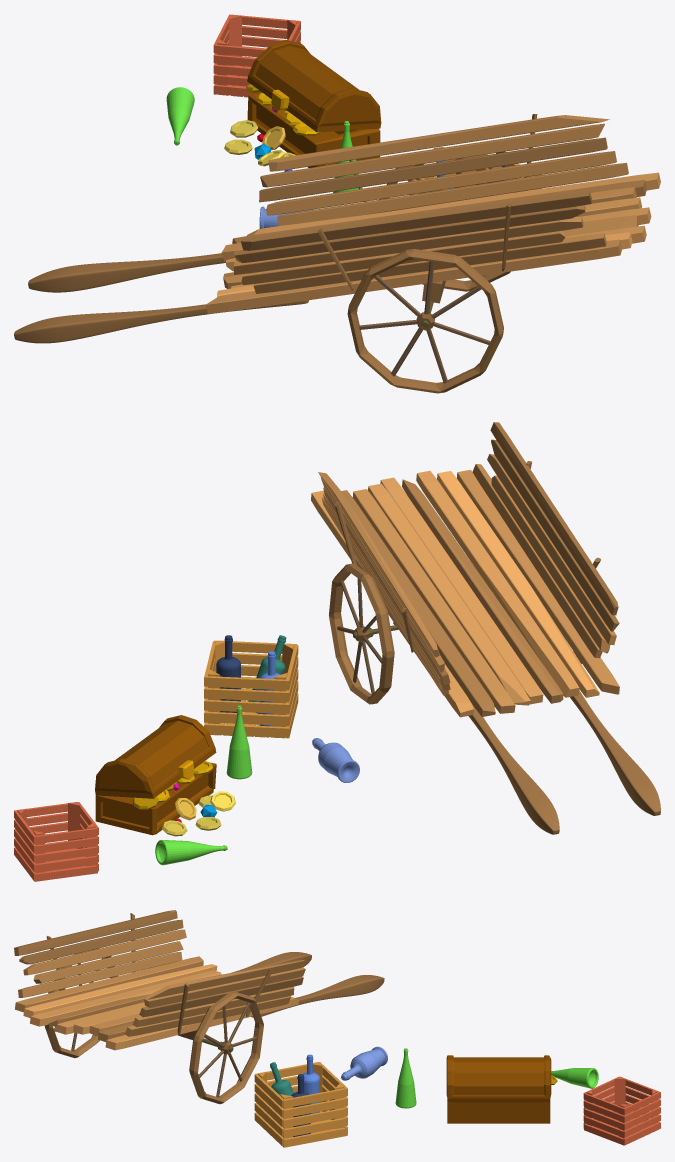
Rendered from Secret_Shop.fbx.
The picture shows the model from 3 angles, top to bottom: view 1: azimuth 30°, elevation 25°; view 2: azimuth 150°, elevation 25°; view 3: azimuth 270°, elevation 25°; orthographic projection. The views are drawn at different scales.
Parts seen in each view (by area): view 1: Cube.079, Cube.070, Cube.072, Cube.069, Cylinder.033; view 2: Cube.079, Cube.073, Cube.070, Cube.072, Cube.069, Cylinder.031, Cylinder.032, Cylinder.033, Cylinder.035; view 3: Cube.079, Cube.073, Cube.070, Cube.072, Cube.069, Cylinder.031, Cylinder.032, Cylinder.033, Cylinder.034, Cylinder.036.
Part boxes in pixels (x1,y1,x2,y2): Cube.079: (14,114,660,393); Cube.070: (247,39,381,132); Cube.072: (213,14,300,97); Cube.069: (247,92,380,167); Cylinder.033: (166,87,194,145); Cube.079: (311,422,660,834); Cube.073: (204,640,298,738); Cube.070: (95,715,216,798); Cube.072: (14,802,98,881); Cube.069: (95,762,216,835); Cylinder.031: (312,738,359,782); Cylinder.032: (226,705,252,779); Cylinder.033: (155,840,227,865); Cylinder.035: (216,635,240,712); Cube.079: (14,910,384,1104); Cube.073: (254,1062,347,1147); Cube.070: (446,1055,551,1102); Cube.072: (583,1076,660,1145); Cube.069: (447,1102,550,1123); Cylinder.031: (341,1046,387,1080); Cylinder.032: (395,1048,416,1108); Cylinder.033: (551,1068,598,1088); Cylinder.034: (302,1054,319,1113); Cylinder.036: (270,1062,293,1095).
Bounding box in the file's own units: 749 × 289 × 1097.
